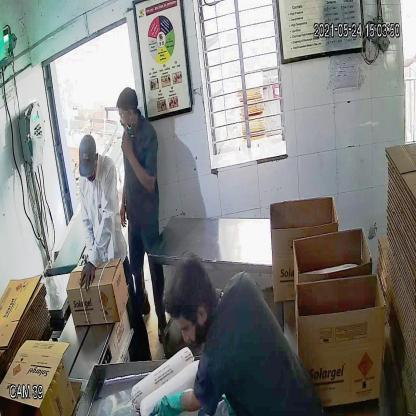goggles: (117, 107, 138, 121)
